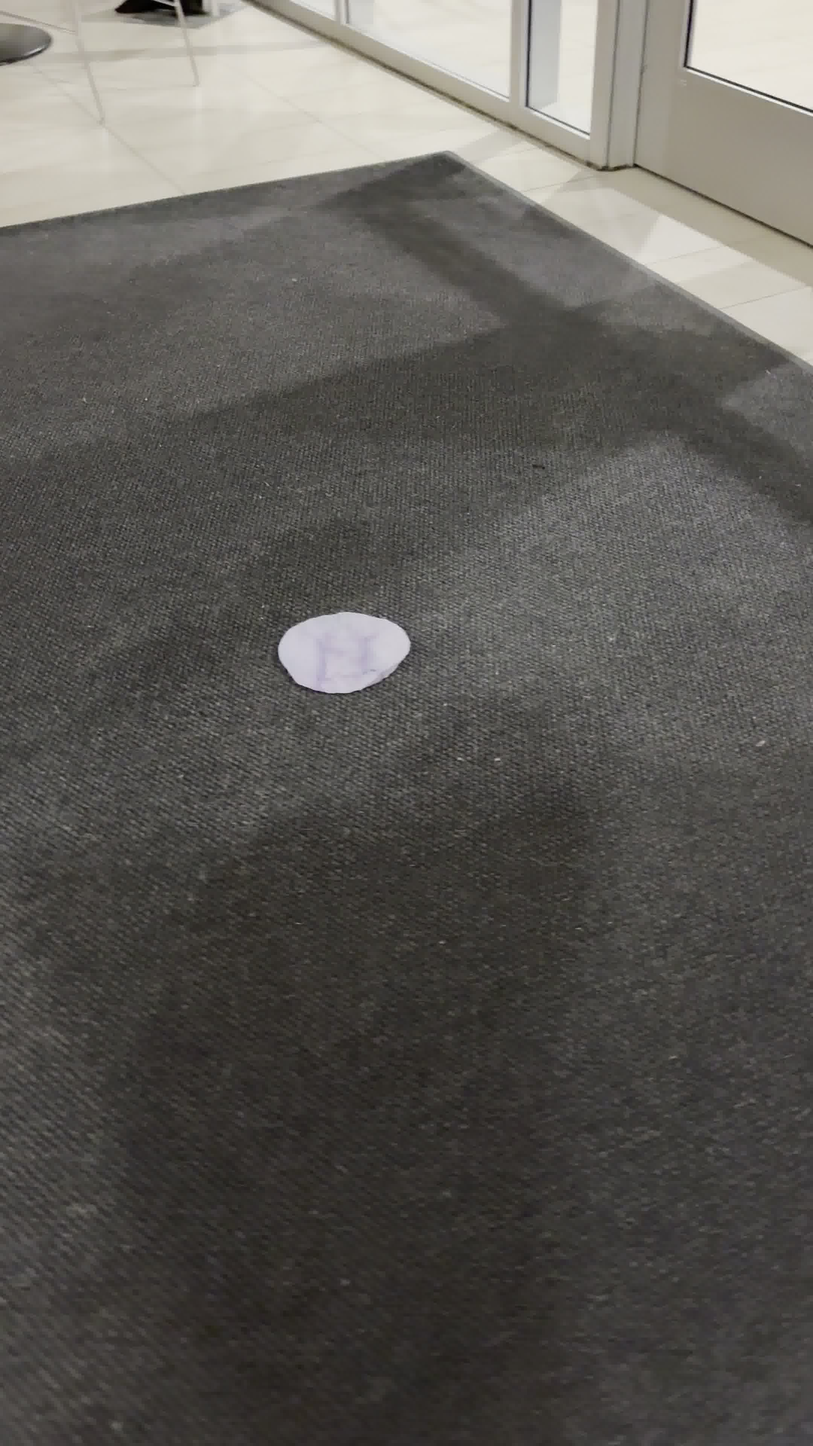Target: (277, 612, 411, 693)
